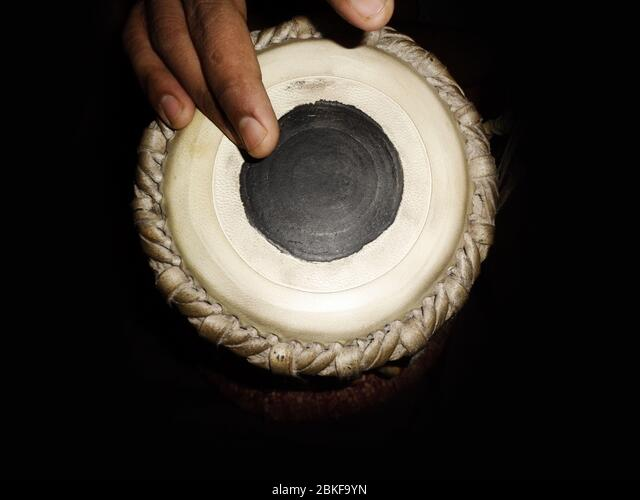tabla: (119, 19, 511, 419)
